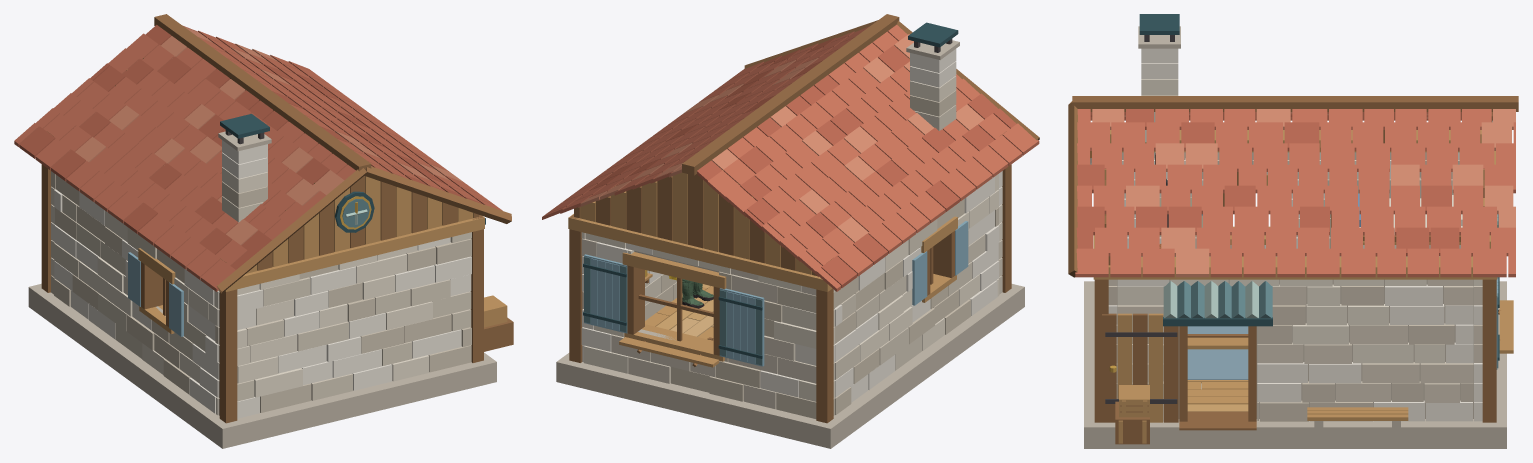
The model's file is maison_quai.glb.
The picture shows the model from 3 angles, left to right: view 1: azimuth 30°, elevation 25°; view 2: azimuth 150°, elevation 25°; view 3: azimuth 270°, elevation 25°; orthographic projection. The views are drawn at different scales.
Parts seen in each view (by area): view 1: Toit, Coupe-col, murs-col, socle-col, Cadres, mobilier-col, Decor; view 2: Toit, murs-col, Cadres, socle-col, Coupe-col, mobilier-col; view 3: Toit, murs-col, socle-col, Cadres, Decor, mobilier-col, Coupe-col.
Boxes of the visible parts, box(x1,y1,x2,y2) form: Toit: box(14, 14, 511, 293); Coupe-col: box(218, 215, 484, 388); murs-col: box(51, 171, 471, 418); socle-col: box(28, 283, 496, 448); Cadres: box(41, 164, 483, 423); mobilier-col: box(484, 317, 513, 351); Decor: box(484, 295, 507, 327); Toit: box(542, 14, 1039, 291); murs-col: box(581, 174, 1002, 418); Cadres: box(568, 214, 1011, 423); socle-col: box(556, 284, 1024, 448); Coupe-col: box(998, 164, 1011, 259); mobilier-col: box(682, 279, 713, 308); Toit: box(1068, 14, 1518, 326); murs-col: box(1116, 152, 1482, 421); socle-col: box(1084, 281, 1506, 448); Cadres: box(1094, 130, 1513, 422); Decor: box(1116, 153, 1462, 443); mobilier-col: box(1115, 214, 1471, 444); Coupe-col: box(1093, 235, 1118, 384).
Bounding box in the file's own units: 10.26 × 8.84 × 11.61.
